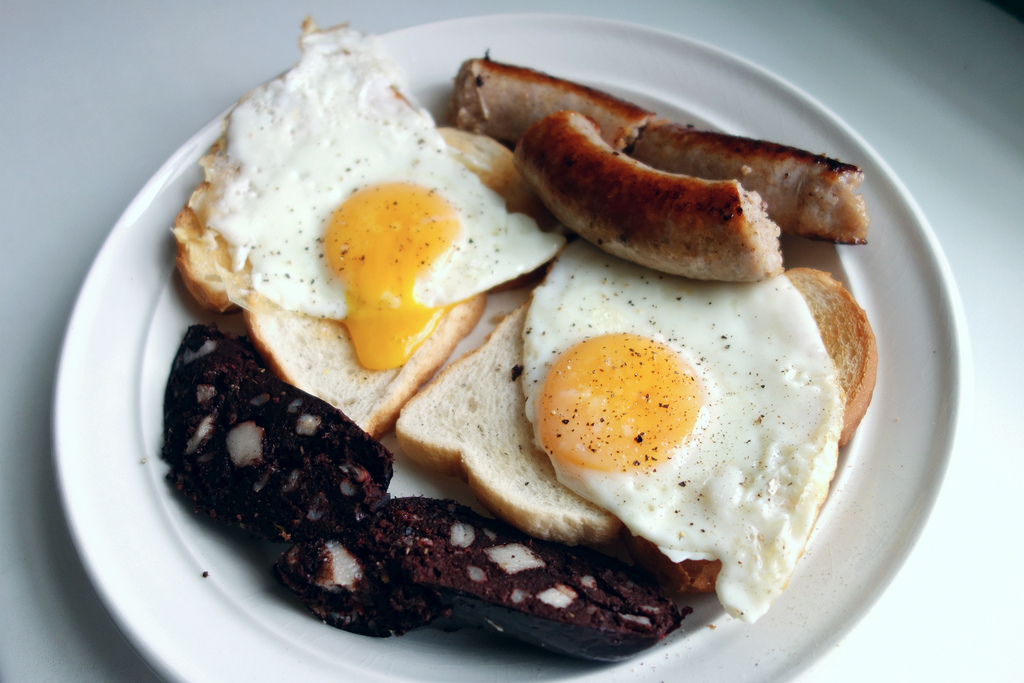fried egg: (533, 259, 820, 540), (248, 111, 468, 360)
slice of bread: (430, 265, 889, 564)
